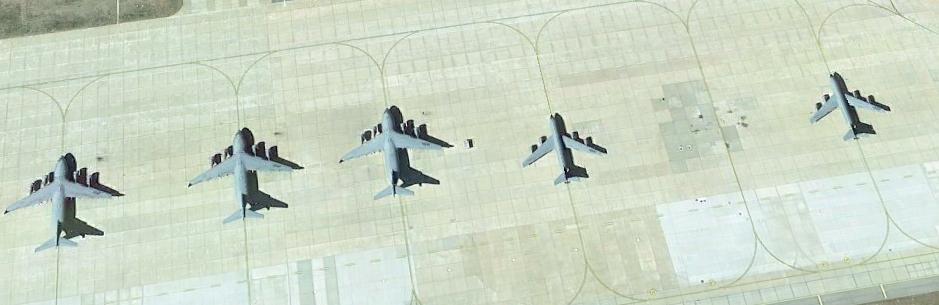C-17: (188, 126, 302, 226), (7, 151, 119, 251), (343, 107, 449, 200)
KC-135: (525, 111, 610, 186), (807, 72, 888, 145)
